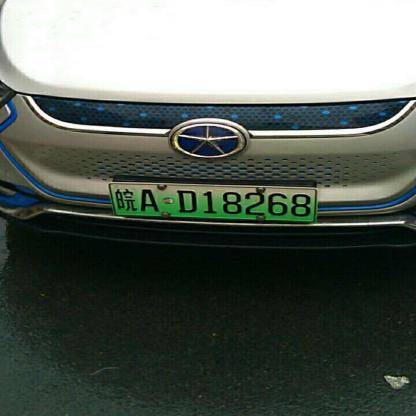lp: (108, 184, 316, 221)
